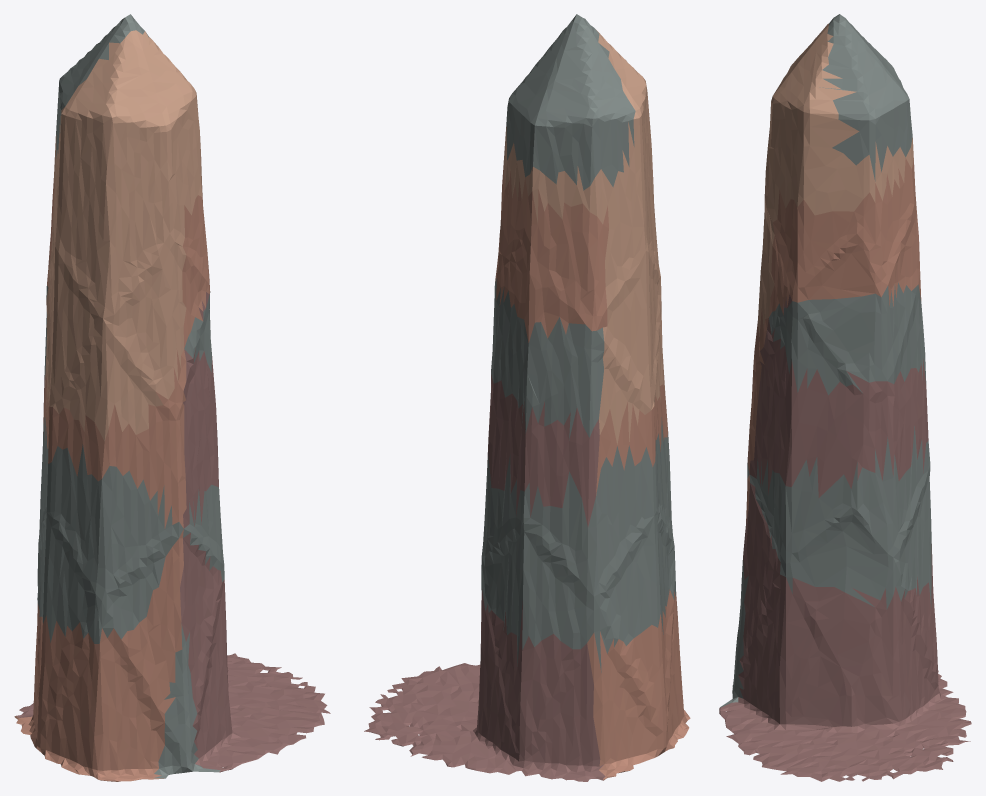
Rendered from obelisk.glb.
3 views of the same model, side by side, from view 1: azimuth 30°, elevation 25°; view 2: azimuth 150°, elevation 25°; view 3: azimuth 270°, elevation 25° (orthographic). The views are drawn at different scales.
Parts seen in each view (by area): view 1: geometry_0; view 2: geometry_0; view 3: geometry_0.
Boxes of the visible parts, x1,y1,x2,y2 form: geometry_0: [14, 14, 330, 781]; geometry_0: [364, 14, 690, 781]; geometry_0: [719, 14, 971, 781].
Bounding box in the file's own units: 0.7976 × 1.98 × 0.6627.
